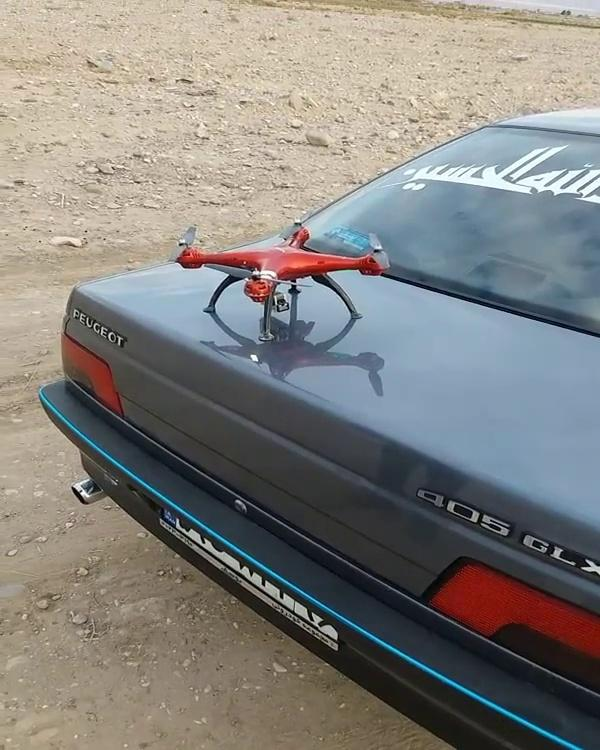drone: (162, 207, 391, 344)
